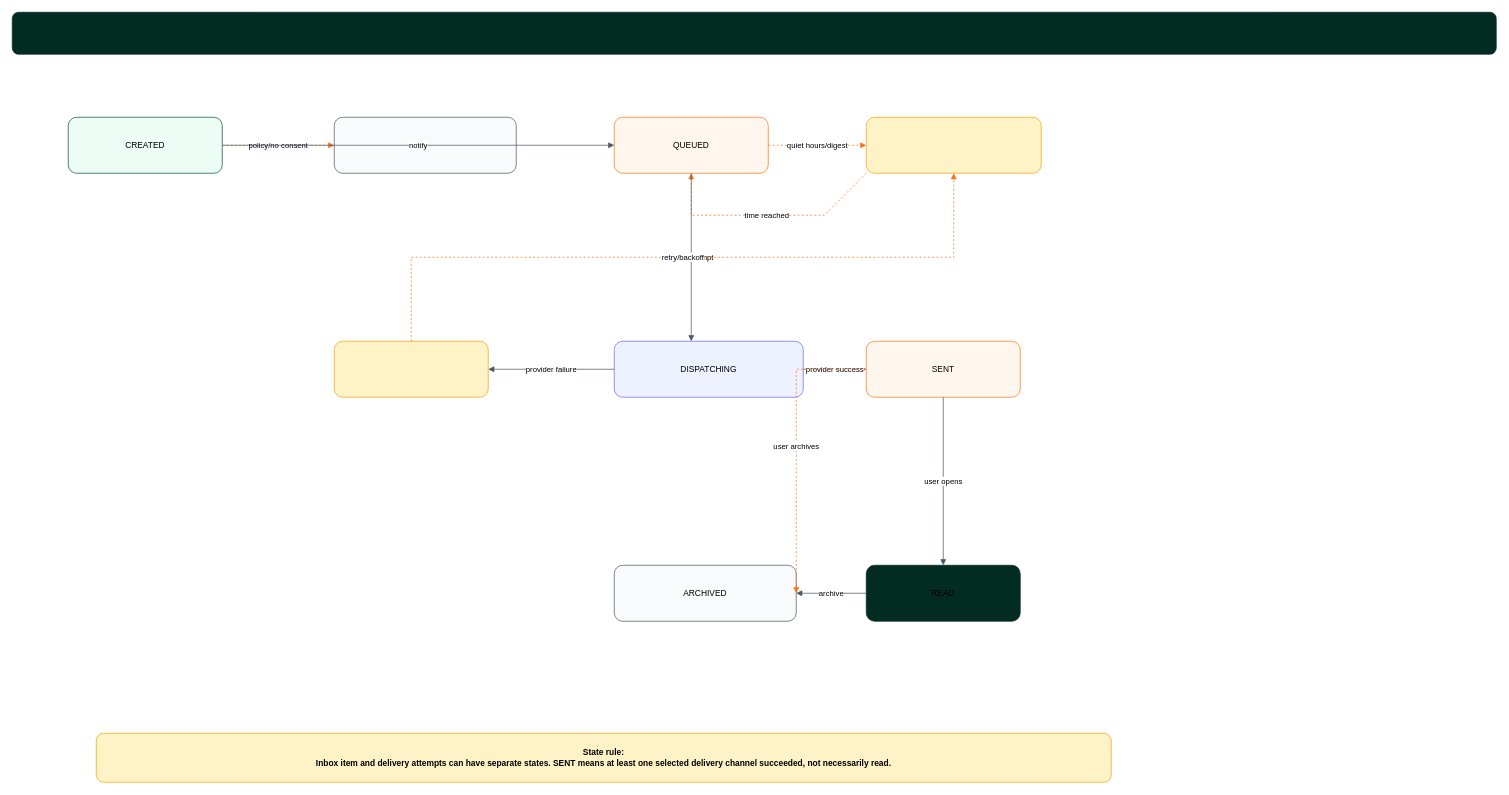
Image size: 1509x795. Some labels were removed from this diagram. The centre of each missing label's shape, as x and y in pixels:
"FAILED" goes at point (411, 369).
"SCHEDULED" goes at point (953, 145).
"SUPPRESSED" goes at point (425, 145).
"Viaverse Notification / Delivery State — State Diagram" goes at point (754, 33).
